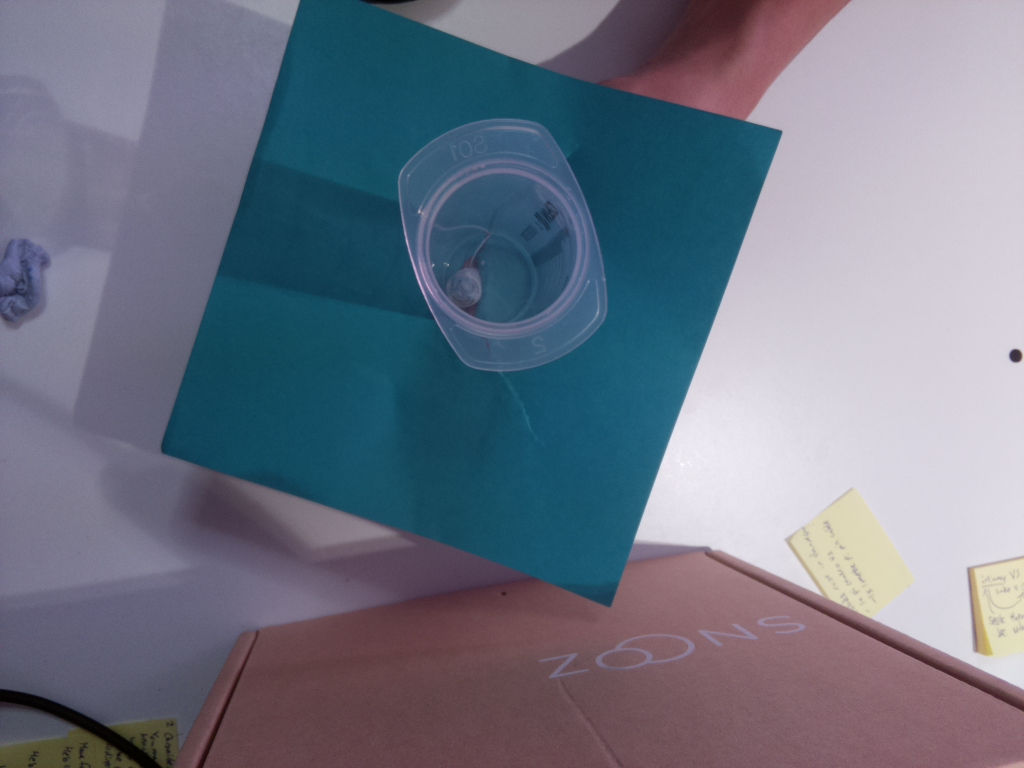clean: (396, 118, 609, 374)
